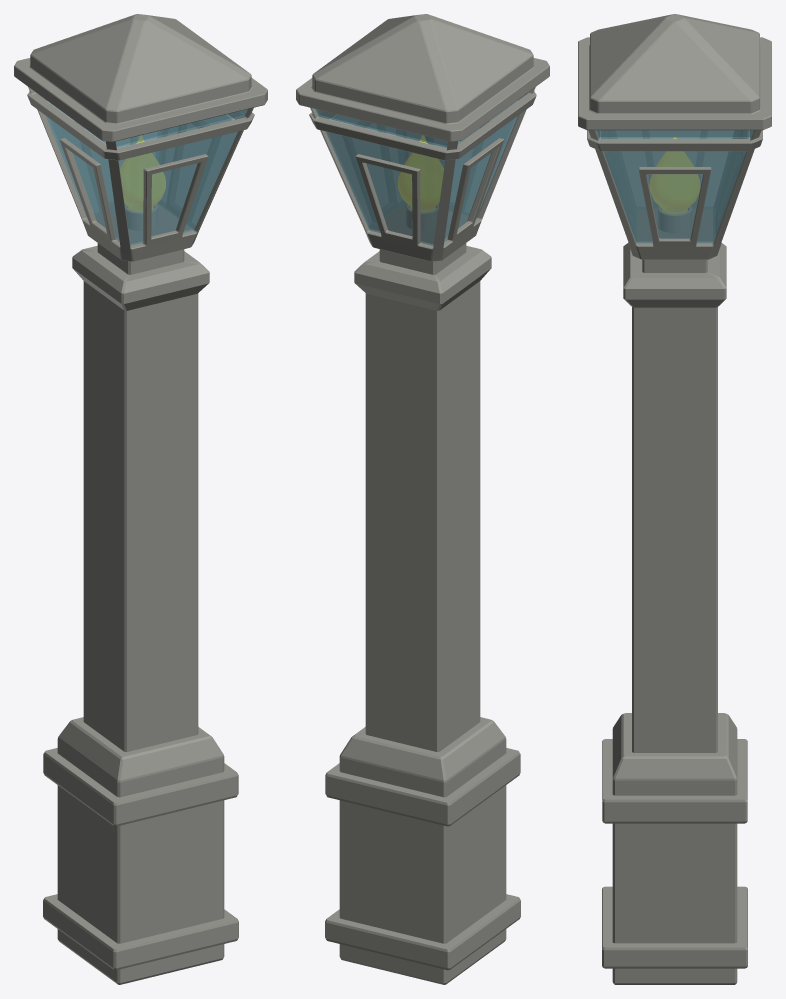
The picture shows the model from 3 angles, left to right: view 1: azimuth 30°, elevation 25°; view 2: azimuth 150°, elevation 25°; view 3: azimuth 270°, elevation 25°; orthographic projection.
Visible parts, largest first — view 1: lamp_1; view 2: lamp_1; view 3: lamp_1.
Boxes of the visible parts, x1=… form: lamp_1: x1=14, y1=14, x2=267, y2=984; lamp_1: x1=296, y1=14, x2=549, y2=984; lamp_1: x1=578, y1=14, x2=771, y2=984.
Bounding box in the file's own units: 22.92 × 123 × 22.92.
